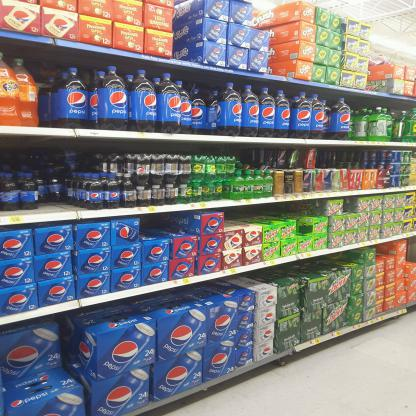Void: (39, 140, 77, 210), (116, 140, 226, 152), (142, 215, 193, 233), (235, 144, 266, 168), (225, 210, 290, 220), (297, 203, 313, 233), (344, 199, 356, 207)
